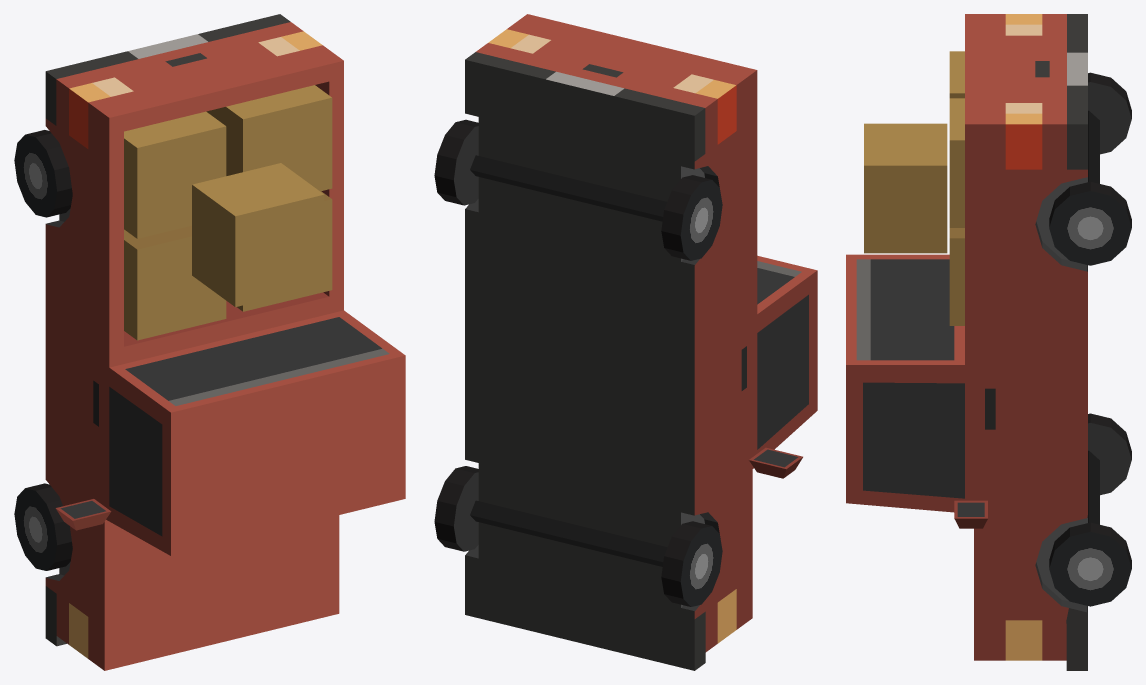
The model's file is car.glb.
3 views of the same model, side by side, from view 1: azimuth 30°, elevation 25°; view 2: azimuth 150°, elevation 25°; view 3: azimuth 270°, elevation 25° (orthographic). The views are drawn at different scales.
Parts seen in each view (by area): view 1: Vehicle, Wheel_rr, Wheel_fr; view 2: Vehicle, Wheel_fr, Wheel_rr, Wheel_rl, Wheel_fl; view 3: Vehicle, Wheel_fl, Wheel_rl, Wheel_rr, Wheel_fr.
Boxes of the visible parts, bbox=[...] form: Vehicle: bbox=[45, 14, 405, 670]; Wheel_rr: bbox=[14, 130, 72, 217]; Wheel_fr: bbox=[14, 483, 72, 570]; Vehicle: bbox=[465, 14, 817, 670]; Wheel_fr: bbox=[661, 521, 722, 606]; Wheel_rr: bbox=[661, 175, 722, 260]; Wheel_rl: bbox=[434, 119, 478, 205]; Wheel_fl: bbox=[434, 466, 478, 551]; Vehicle: bbox=[846, 14, 1099, 670]; Wheel_fl: bbox=[1049, 522, 1131, 606]; Wheel_rl: bbox=[1049, 181, 1131, 265]; Wheel_rr: bbox=[1088, 72, 1131, 154]; Wheel_fr: bbox=[1088, 413, 1131, 495].
Size of the model in its own units: 3.16 by 5.38 by 2.55.
1 material, 1 textured.
